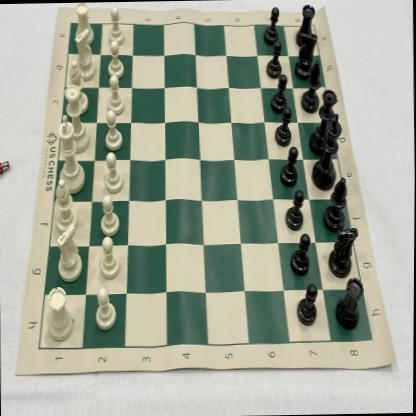black-bishop: (323, 174, 349, 230), (301, 60, 323, 112)
black-king: (310, 113, 344, 190)
black-knight: (328, 226, 359, 276), (295, 31, 319, 79)
black-pawn: (290, 233, 312, 278), (283, 188, 305, 232), (297, 283, 319, 327), (279, 146, 299, 186), (270, 74, 289, 112), (274, 106, 292, 146), (263, 7, 280, 46), (266, 40, 283, 78)
black-queen: (308, 89, 338, 155)
black-rook: (335, 276, 365, 330), (295, 4, 316, 47)
white-bishop: (55, 178, 78, 233), (68, 58, 89, 113)
white-king: (57, 114, 86, 194)
white-knight: (57, 224, 83, 282), (74, 28, 96, 80)
white-pawn: (92, 285, 118, 331), (99, 235, 121, 278), (104, 151, 124, 192), (100, 195, 120, 235), (104, 110, 123, 152), (107, 40, 126, 80), (106, 74, 125, 114), (108, 6, 125, 46)
white-queen: (63, 83, 90, 154)
white-rook: (45, 286, 74, 341), (74, 2, 95, 46)
